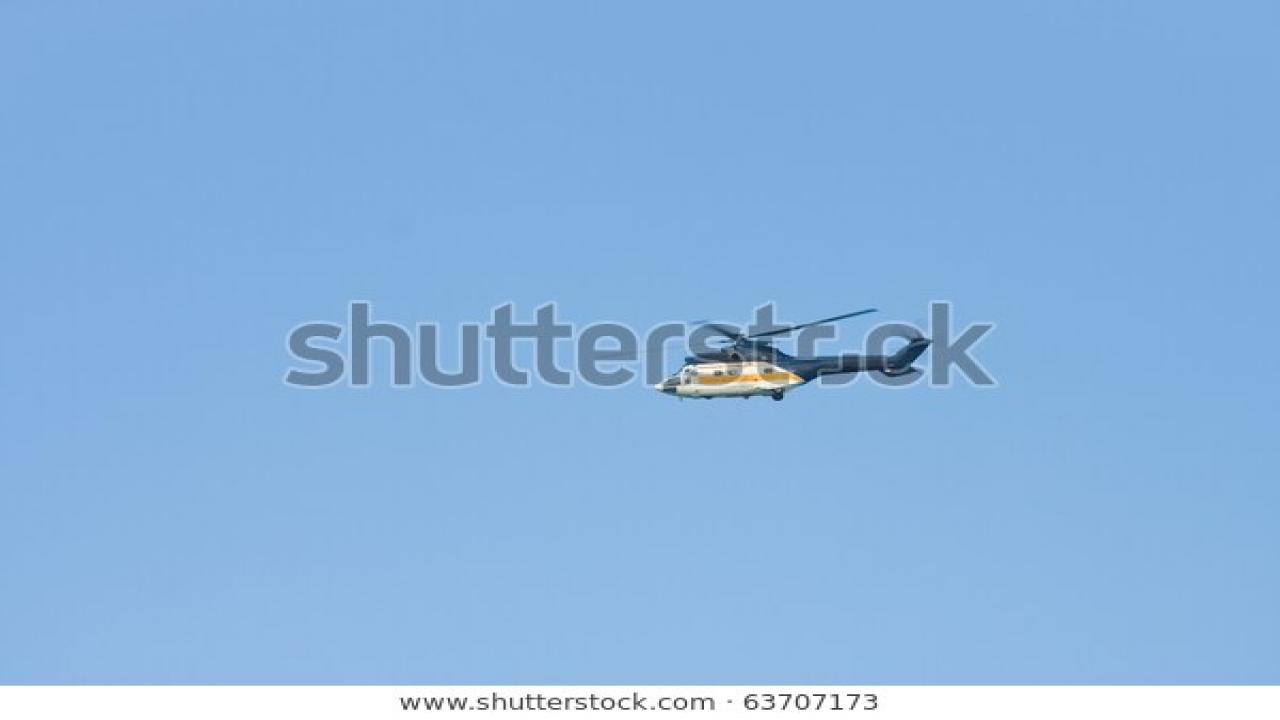Helicopter: (641, 301, 940, 410)
